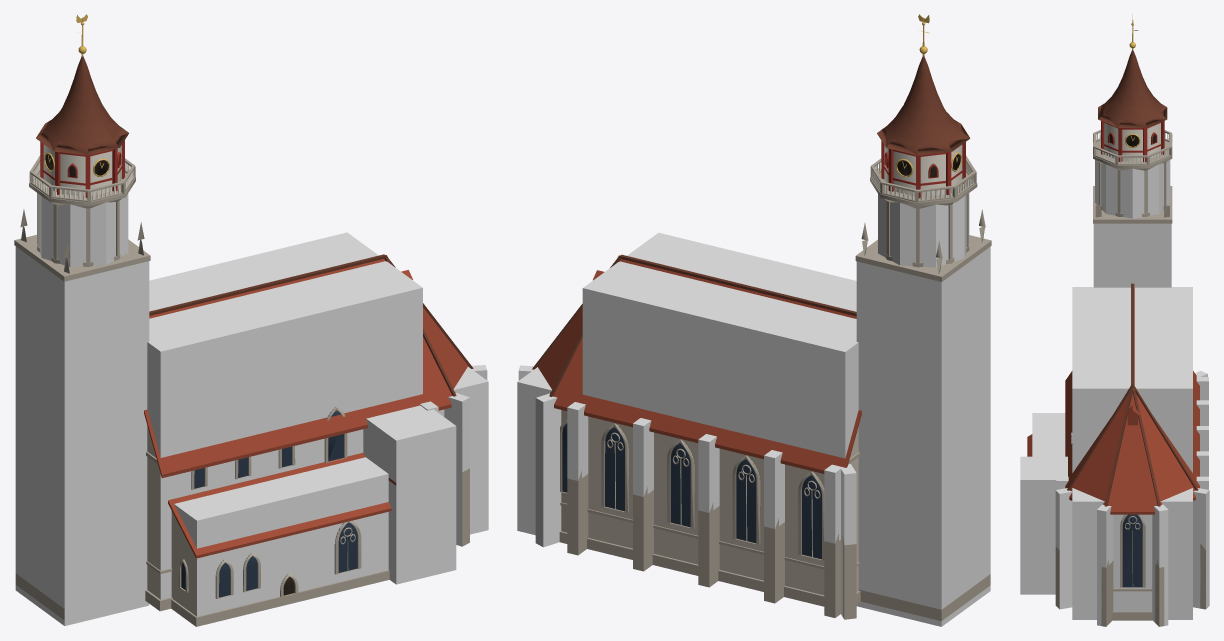
Rendered from kirche.glb.
The picture shows the model from 3 angles, left to right: view 1: azimuth 30°, elevation 25°; view 2: azimuth 150°, elevation 25°; view 3: azimuth 270°, elevation 25°; orthographic projection. The views are drawn at different scales.
Parts seen in each view (by area): view 1: COL_HULL_0, COL_HULL_4, kirche, COL_HULL_2, COL_HULL_3, COL_HULL_5, COL_HULL_1, COL_HULL_16; view 2: kirche, COL_HULL_0, COL_HULL_4, COL_HULL_5, COL_HULL_13, COL_HULL_1, COL_HULL_8, COL_HULL_11, COL_HULL_9, COL_HULL_7, COL_HULL_10, COL_HULL_6; view 3: kirche, COL_HULL_0, COL_HULL_1, COL_HULL_3, COL_HULL_4, COL_HULL_5, COL_HULL_16, COL_HULL_13, COL_HULL_14, COL_HULL_2, COL_HULL_15.
Boxes of the visible parts, <box> form: COL_HULL_0: <box>147,232,422,599</box>; COL_HULL_4: <box>15,246,149,625</box>; kirche: <box>14,14,473,626</box>; COL_HULL_2: <box>174,457,388,616</box>; COL_HULL_3: <box>363,405,456,584</box>; COL_HULL_5: <box>37,193,128,267</box>; COL_HULL_1: <box>438,367,488,534</box>; COL_HULL_16: <box>444,393,469,546</box>; kirche: <box>532,14,991,621</box>; COL_HULL_0: <box>582,232,858,458</box>; COL_HULL_4: <box>856,246,990,626</box>; COL_HULL_5: <box>878,193,969,267</box>; COL_HULL_13: <box>535,393,561,547</box>; COL_HULL_1: <box>517,367,551,535</box>; COL_HULL_8: <box>698,434,719,512</box>; COL_HULL_11: <box>567,402,588,480</box>; COL_HULL_9: <box>633,418,653,496</box>; COL_HULL_7: <box>764,450,784,528</box>; COL_HULL_10: <box>841,464,856,616</box>; COL_HULL_6: <box>824,464,842,543</box>; kirche: <box>1027,14,1205,626</box>; COL_HULL_0: <box>1072,287,1192,472</box>; COL_HULL_1: <box>1072,488,1192,619</box>; COL_HULL_3: <box>1020,456,1067,594</box>; COL_HULL_4: <box>1093,223,1171,287</box>; COL_HULL_5: <box>1095,160,1170,218</box>; COL_HULL_16: <box>1055,488,1072,609</box>; COL_HULL_13: <box>1193,488,1209,608</box>; COL_HULL_14: <box>1152,504,1168,625</box>; COL_HULL_2: <box>1032,413,1065,456</box>; COL_HULL_15: <box>1097,504,1113,625</box>.
Bounding box in the file's own units: 39.32 × 51.14 × 18.87.
